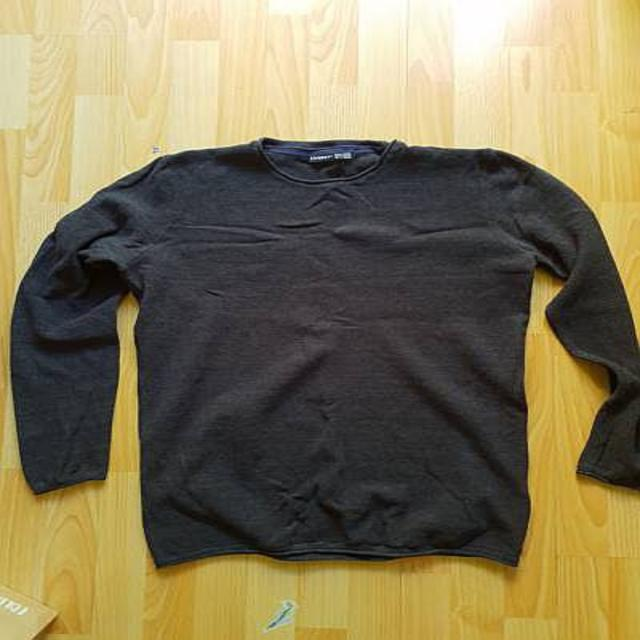SHIRT: (2, 122, 640, 577)
